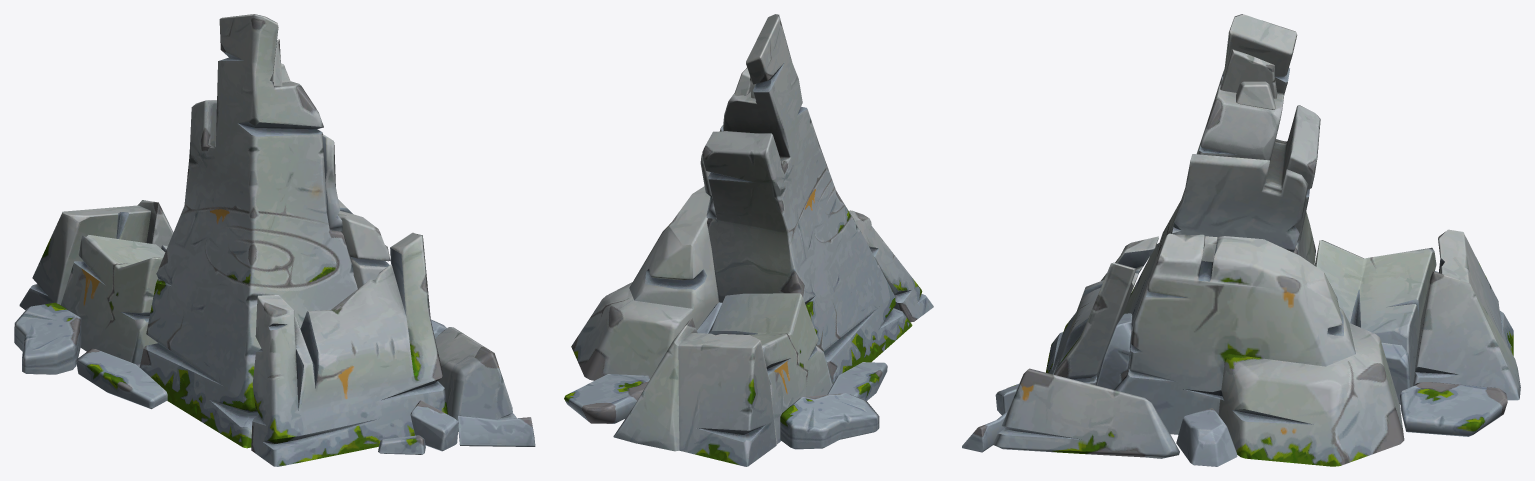
The model's file is rock.glb.
The picture shows the model from 3 angles, left to right: view 1: azimuth 30°, elevation 25°; view 2: azimuth 150°, elevation 25°; view 3: azimuth 270°, elevation 25°; orthographic projection. The views are drawn at different scales.
Parts seen in each view (by area): view 1: LOD0; view 2: LOD0; view 3: LOD0.
Boxes of the visible parts, bbox=[...] form: LOD0: bbox=[14, 14, 535, 466]; LOD0: bbox=[564, 14, 933, 466]; LOD0: bbox=[962, 14, 1520, 466].
Size of the model in its own units: 4.32 by 4.29 by 5.92.
Materials: 1 (1 with a texture image).
